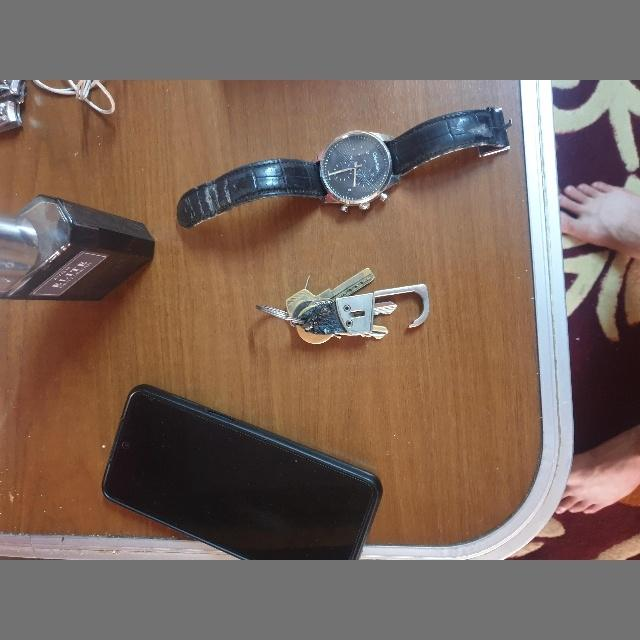Keys: (207, 291, 389, 374)
